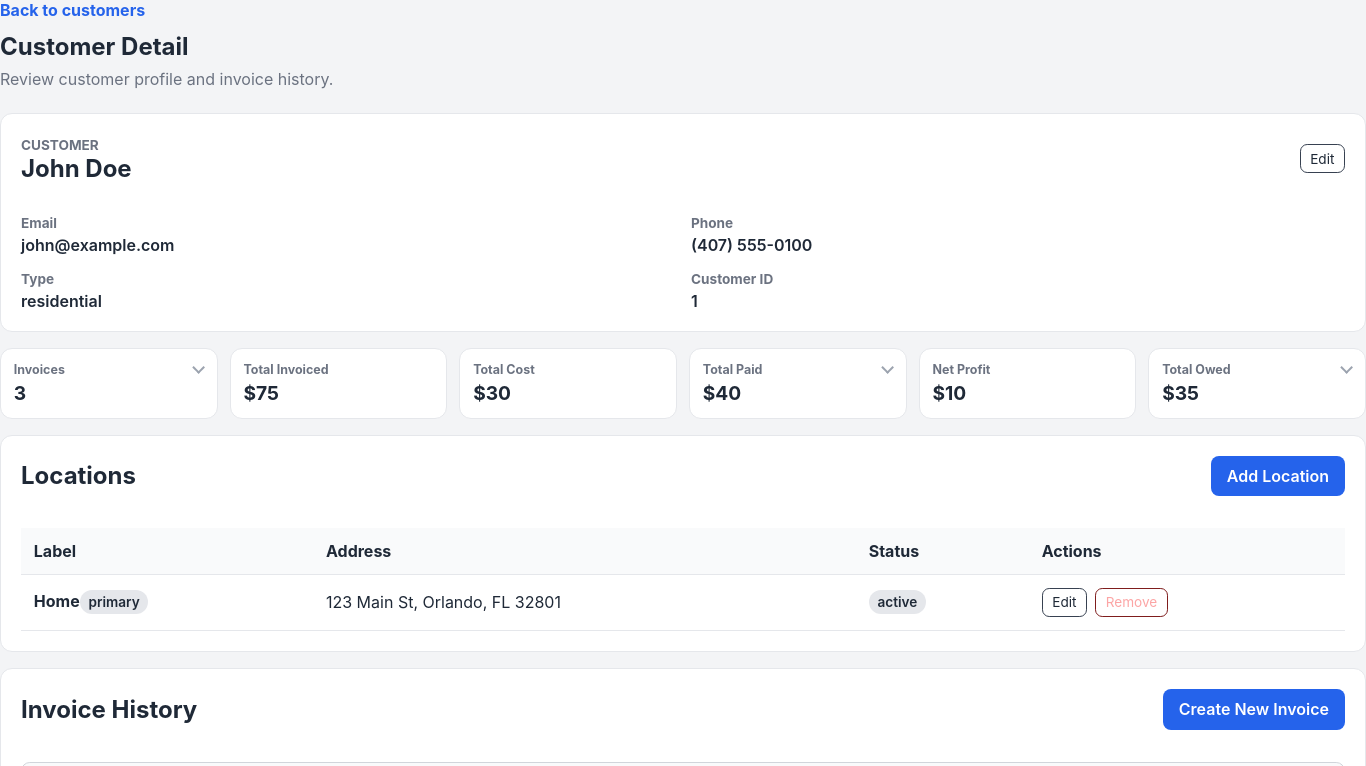
CustomerDetailPage › shows invoice status filters from the invoice history section
This screenshot has width=1366, height=766.
Click the button "Invoices 3" at (109,383), box 0,348 -> 218,419
(page scrolled)
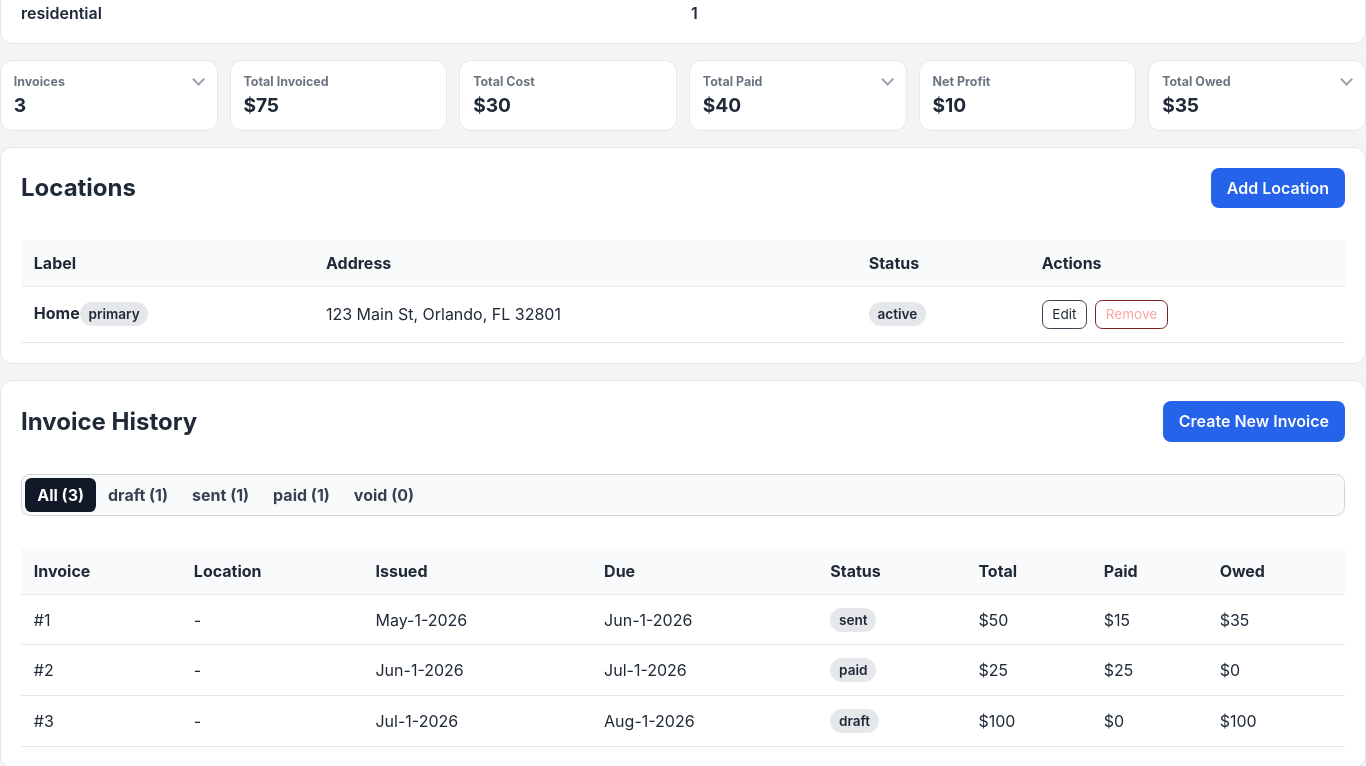
Expected: the button "All (3)" is shown, 25,478 -> 96,512
Click the button "Total Paid $40" at (798,95), box 689,60 -> 907,131
(page scrolled)
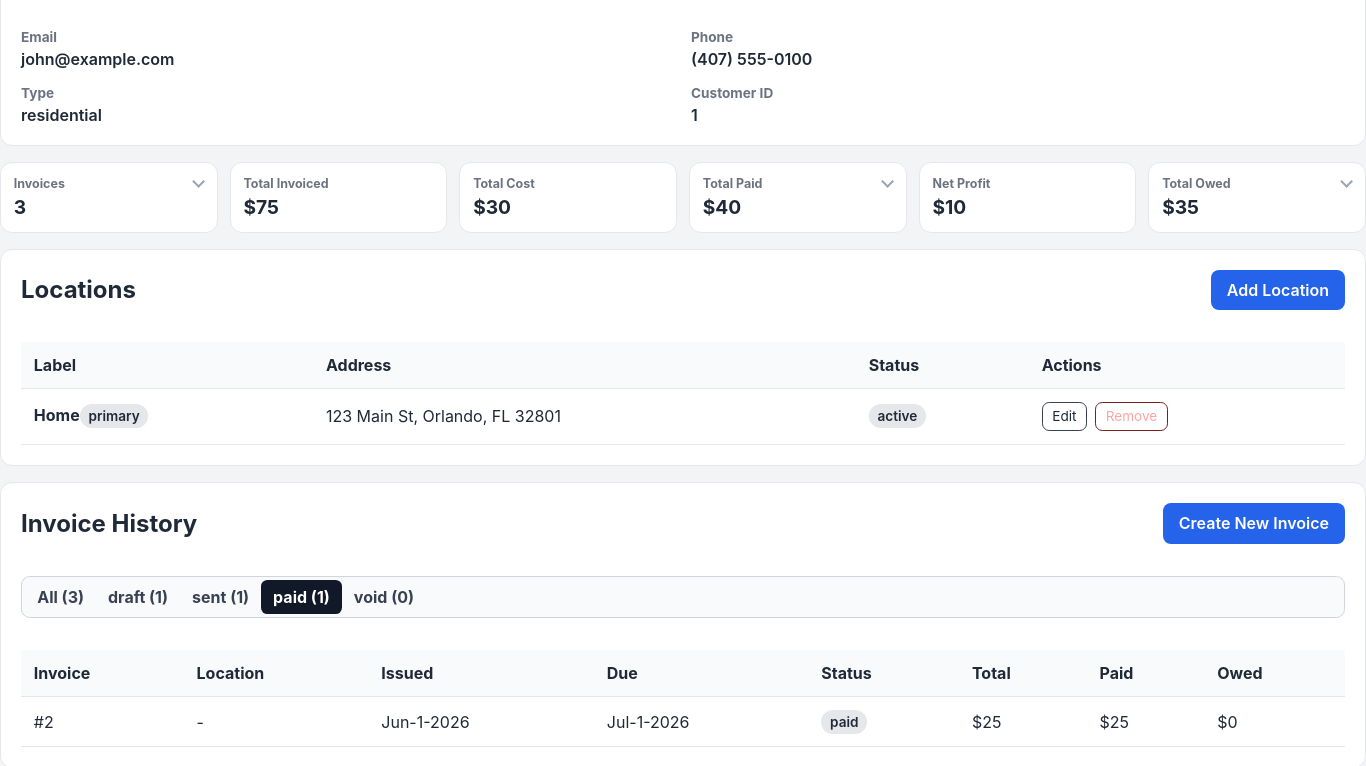
Expected: the row named "View invoice #2" is shown, 21,696 -> 1345,747
Click the button "Total Owed $35" at (1257,197), box 1148,162 -> 1365,233
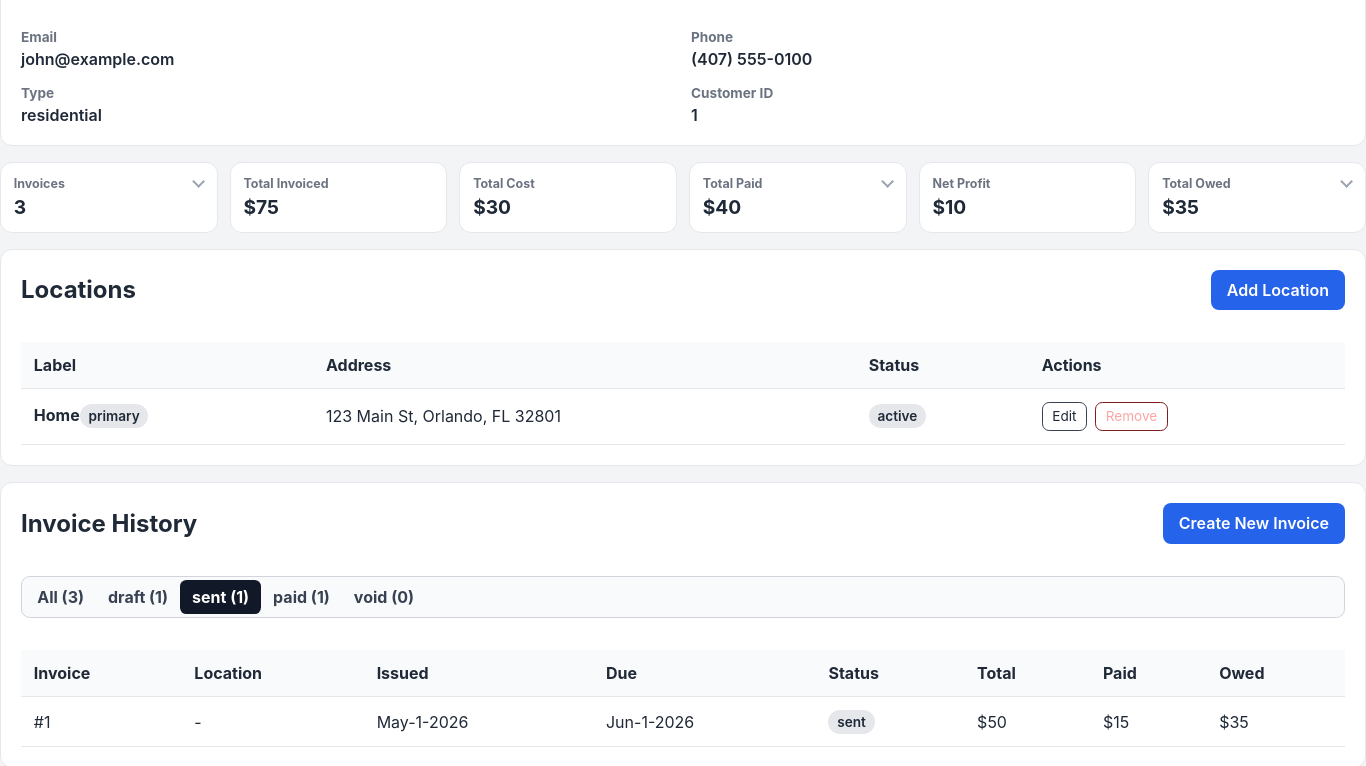
Now the row named "View invoice #1" is shown, box 21,696 -> 1345,747
